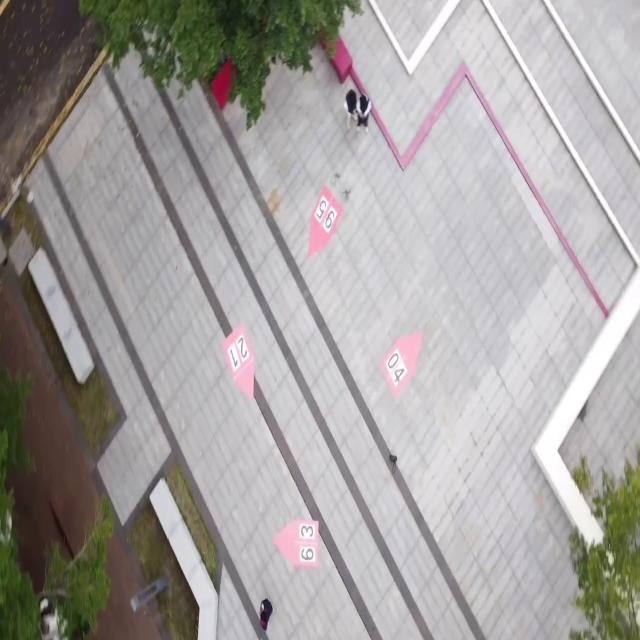-sign-: (210, 314, 268, 411), (297, 165, 349, 268), (272, 497, 325, 582), (372, 326, 430, 399)
